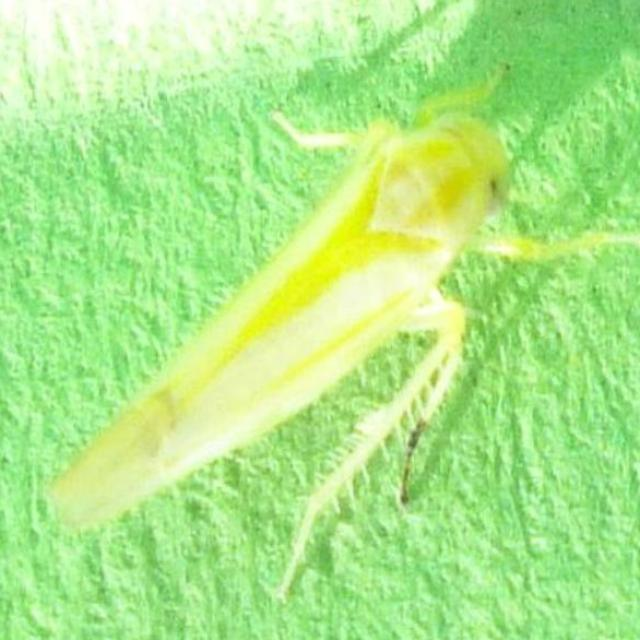green leaf hopper: (50, 74, 509, 526)
